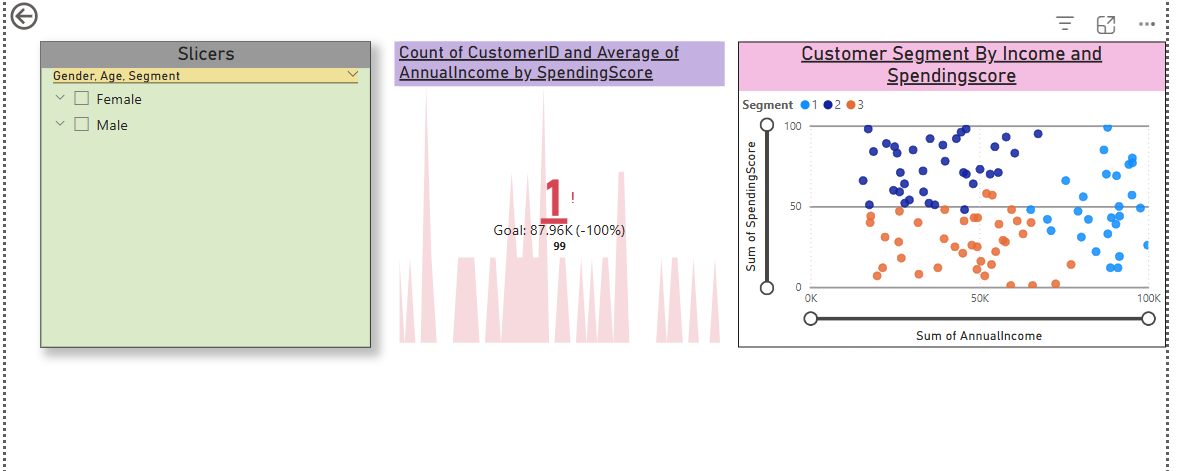

What the dashboard file says about the page in this screenshot:
{"tool":"powerbi","page":{"name":"Page 2","canvas":[1280,720],"ordinal":1},"visuals":[{"type":"slicer","title":"Slicers","fields":{"Values":["segmented_sales_data.Gender","segmented_sales_data.Age","segmented_sales_data.Segment"]},"box":[38.1,48,364.4,337.9],"z":0},{"type":"actionButton","box":[0,0,100,40],"z":1000},{"type":"kpi","fields":{"Indicator":["Count(segmented_sales_data.CustomerID)"],"Goal":["Avg(segmented_sales_data.AnnualIncome)"],"TrendLine":["segmented_sales_data.SpendingScore"]},"box":[429,48,364.4,337.9],"z":1001},{"type":"scatterChart","title":"Customer Segment By Income and Spendingscore ","fields":{"X":["Sum(segmented_sales_data.AnnualIncome)"],"Y":["Sum(segmented_sales_data.SpendingScore)"],"Series":["segmented_sales_data.Segment"],"Category":["segmented_sales_data.CustomerID"]},"box":[808.4,48,472.1,337.9],"z":1002}]}

Visuals, with their boxes on the page's 1280x720 design canvas (x1, y1, x2, y2). These are canvas units, not pixel positions in the 1181x471 screenshot, which may show the page scaled, cropped or inside an application window:
"Slicers" slicer: box=[38, 48, 402, 386]
actionButton: box=[0, 0, 100, 40]
kpi - Count(segmented_sales_data.CustomerID) x Avg(segmented_sales_data.AnnualIncome): box=[429, 48, 793, 386]
"Customer Segment By Income and Spendingscore " scatterChart: box=[808, 48, 1280, 386]
